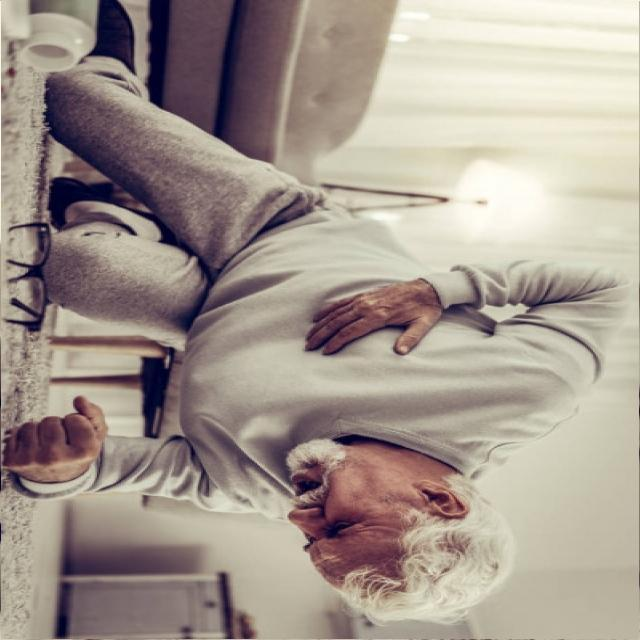Fall: (35, 38, 579, 638)
